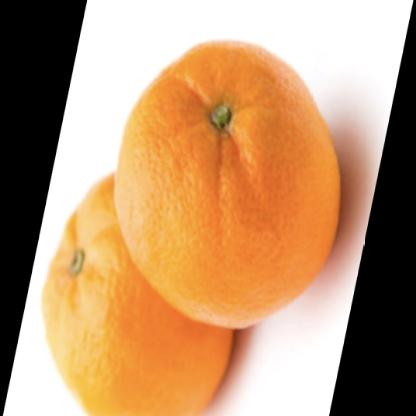fresh: (45, 41, 344, 416)
